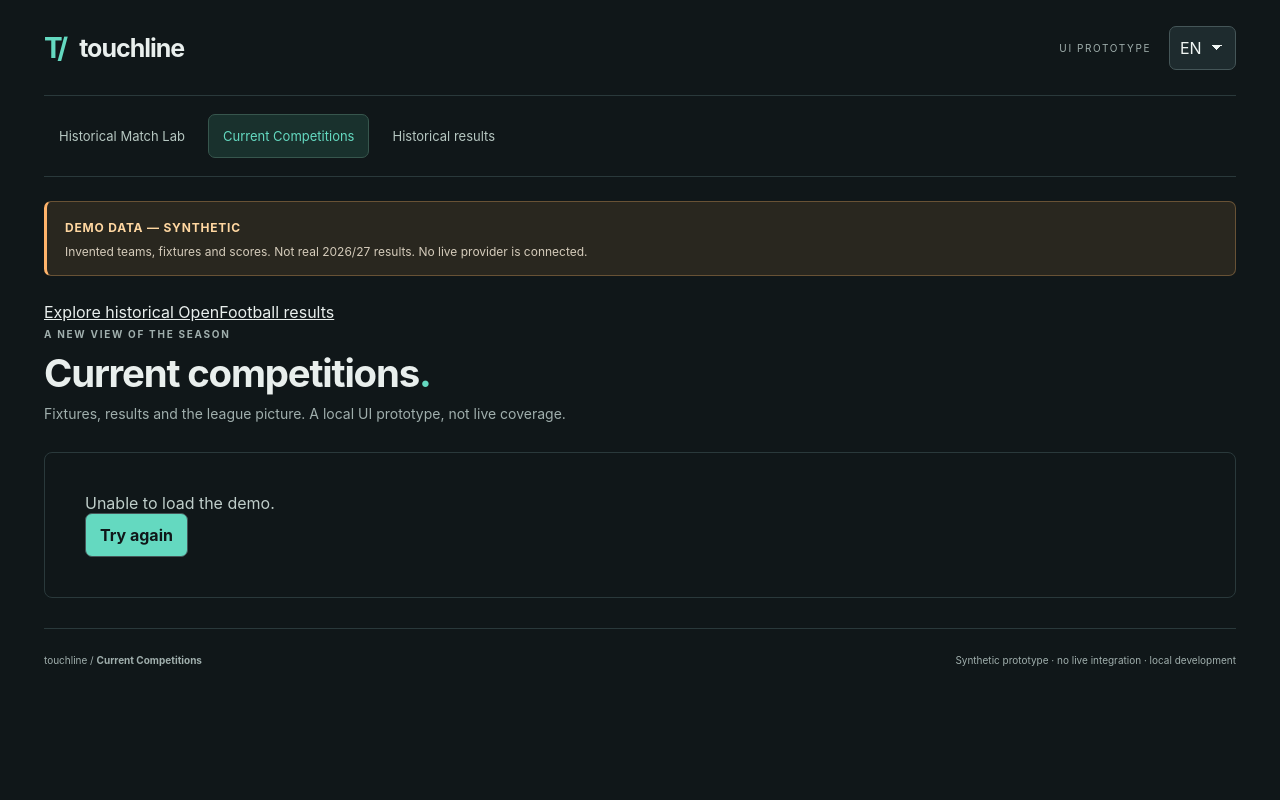
Test case: never exposes raw source errors and supports empty catalog/retry
Click the button "Try again".
click(136, 535)  # box [85,513,188,557]
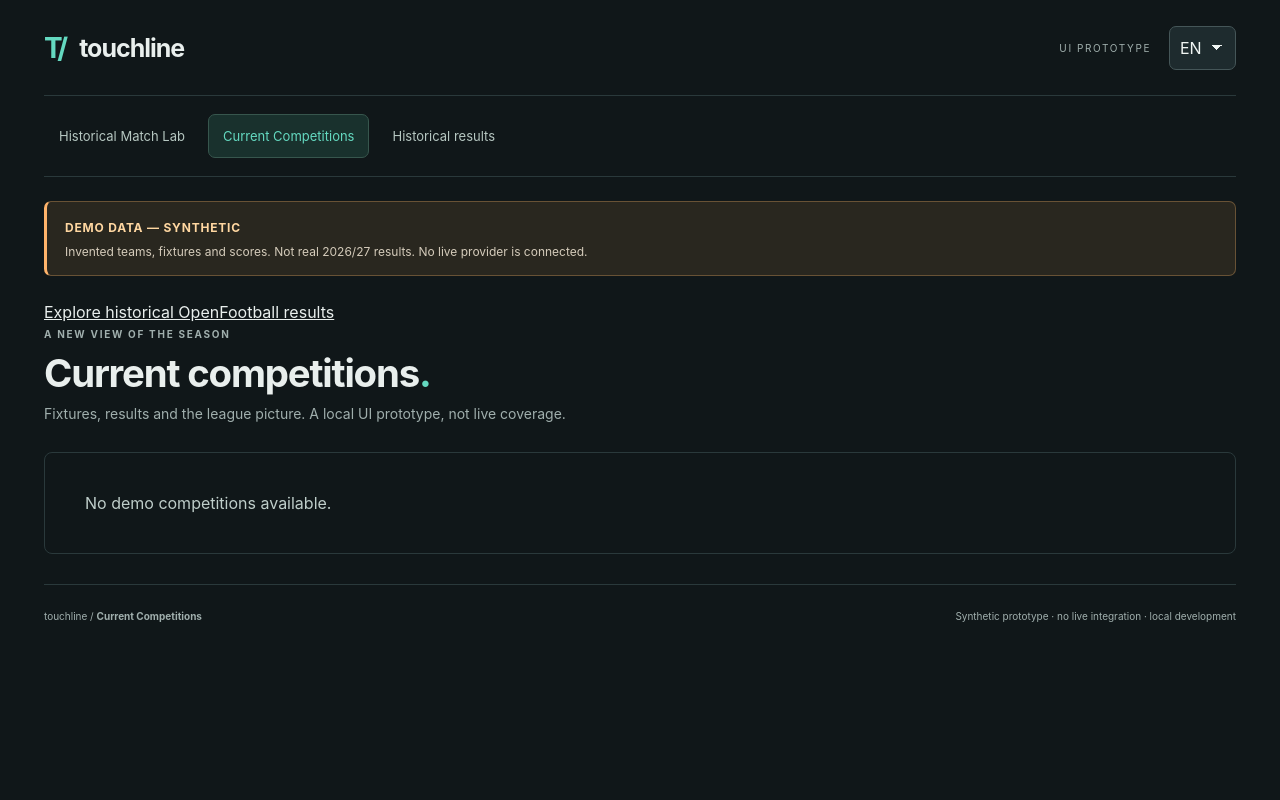
Expected: the text "No demo competitions available." is shown, [85,493,332,513]
